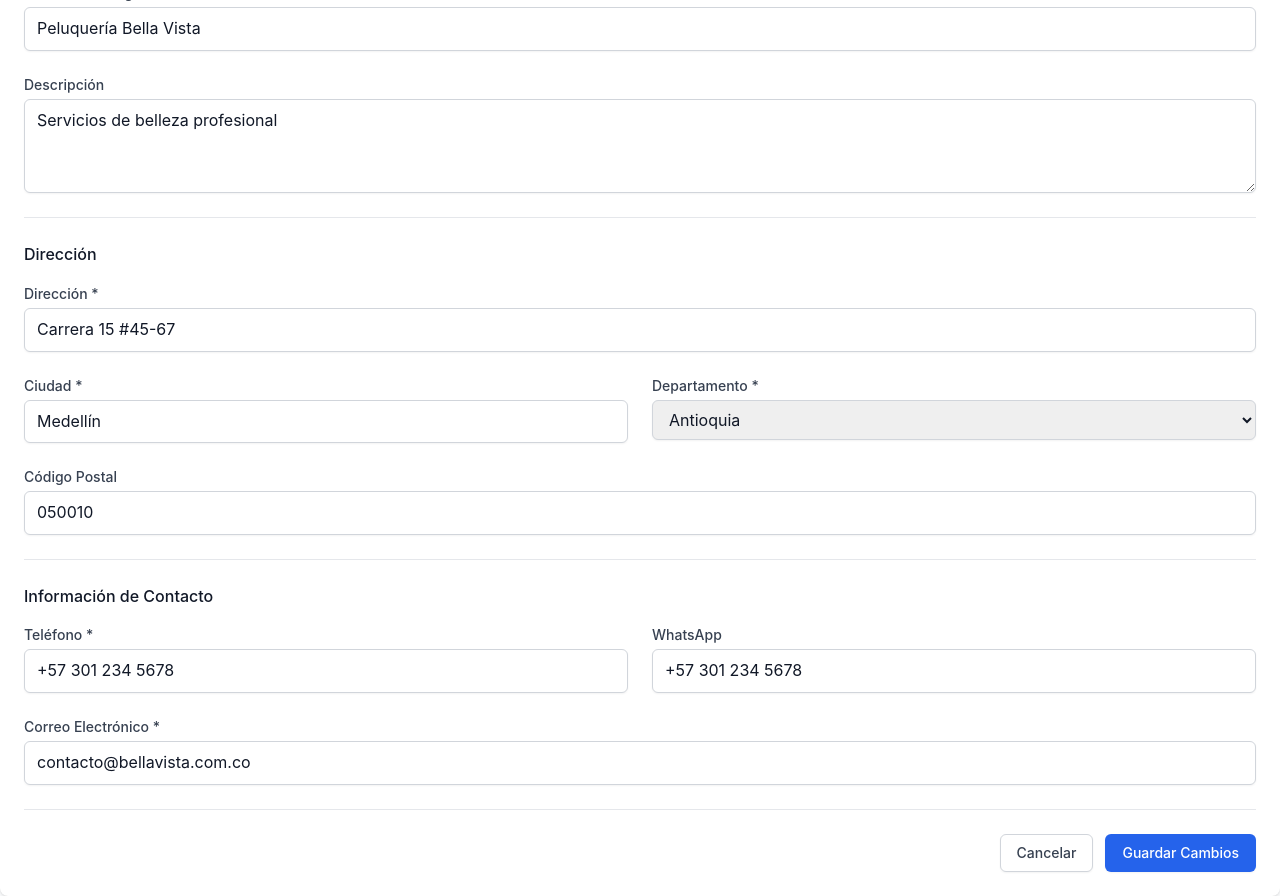
BusinessProfileEditForm › validates email is required
(page scrolled)
Clear the field labelled "Correo Electrónico *" at point(640, 763), box [24, 741, 1256, 784]
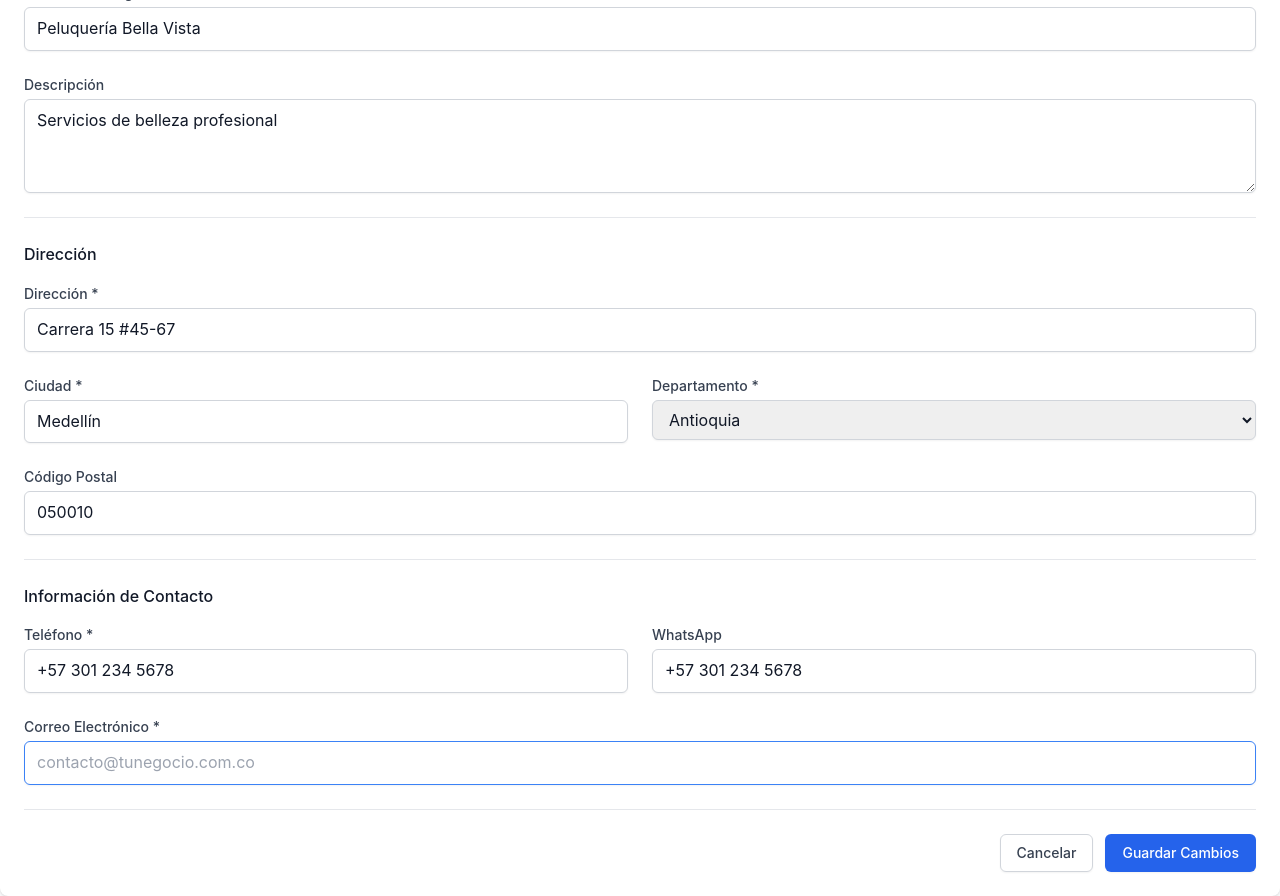
Click the button "Guardar Cambios".
click(1181, 852)  # box [1105, 834, 1256, 872]
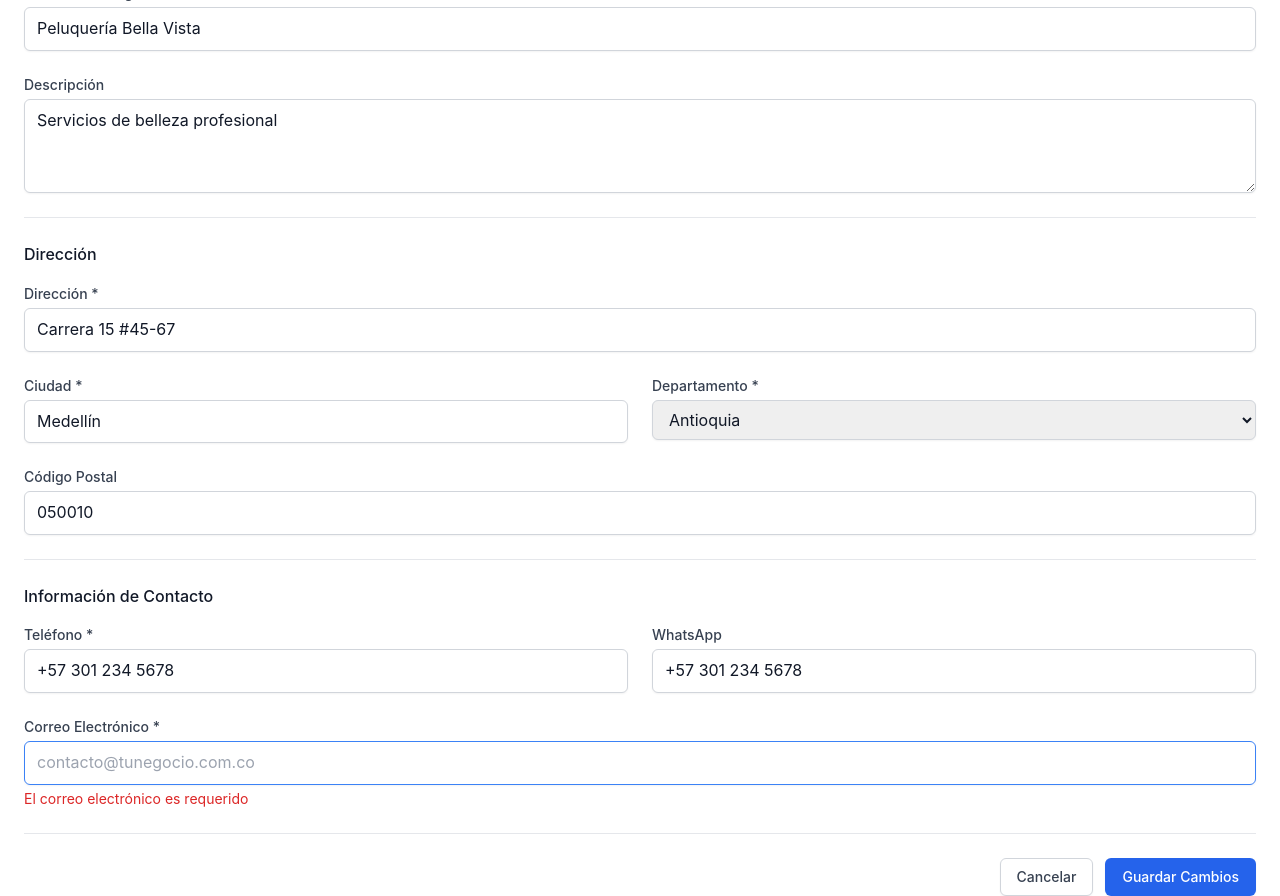
Expected: the text "El correo electrónico es requerido" is shown, [24, 790, 248, 806]
